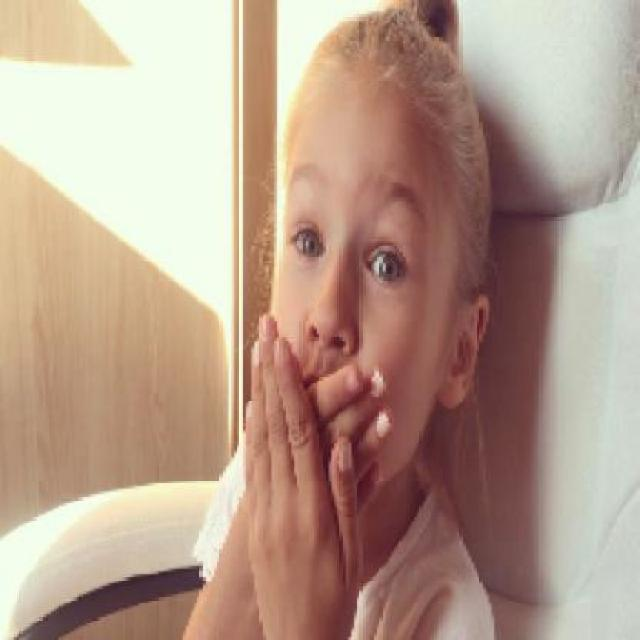child: (180, 0, 494, 637)
